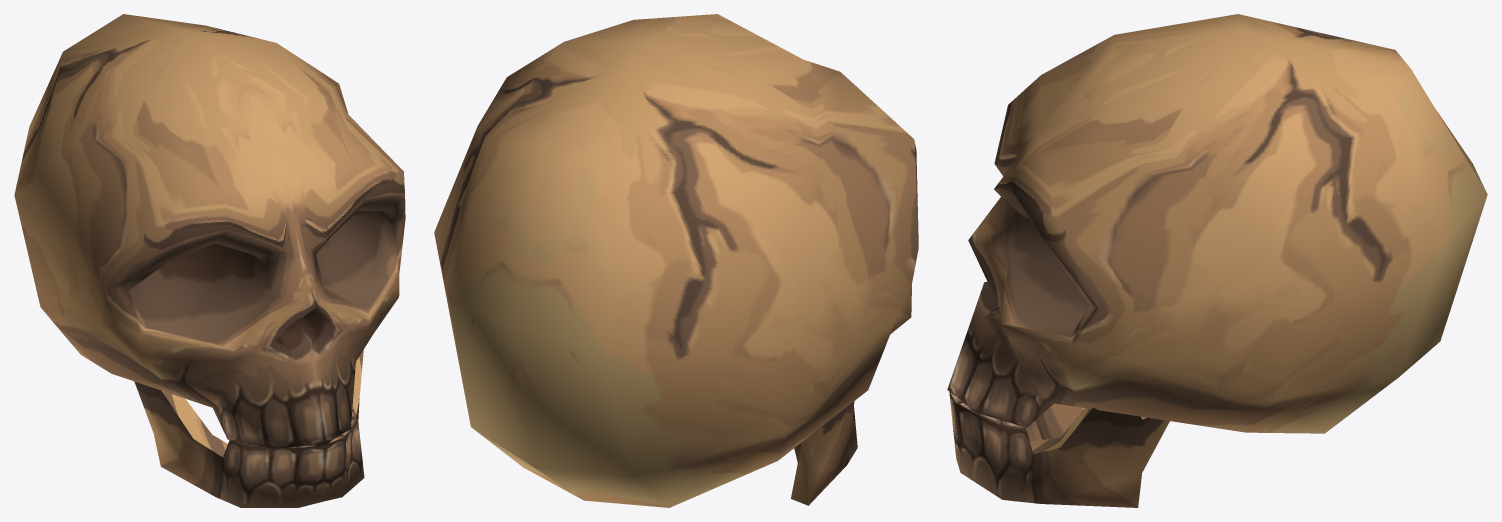
The model's file is SM_PROP_skeleton_skull_battle.fbx.
3 renders of one model, left to right at view 1: azimuth 30°, elevation 25°; view 2: azimuth 150°, elevation 25°; view 3: azimuth 270°, elevation 25°, orthographic. The views are drawn at different scales.
Parts seen in each view (by area): view 1: SM_PROP_skeleton_skull_battle, SM_PROP_skeleton_skull_jaw_battle; view 2: SM_PROP_skeleton_skull_battle, SM_PROP_skeleton_skull_jaw_battle; view 3: SM_PROP_skeleton_skull_battle, SM_PROP_skeleton_skull_jaw_battle.
Part boxes in pixels (x1,y1,x2,y2): SM_PROP_skeleton_skull_battle: [14, 14, 405, 448]; SM_PROP_skeleton_skull_jaw_battle: [134, 350, 364, 507]; SM_PROP_skeleton_skull_battle: [434, 14, 918, 507]; SM_PROP_skeleton_skull_jaw_battle: [791, 401, 857, 505]; SM_PROP_skeleton_skull_battle: [947, 14, 1487, 433]; SM_PROP_skeleton_skull_jaw_battle: [949, 392, 1169, 507].
Size of the model in its own units: 21.43 by 26.71 by 29.56.
